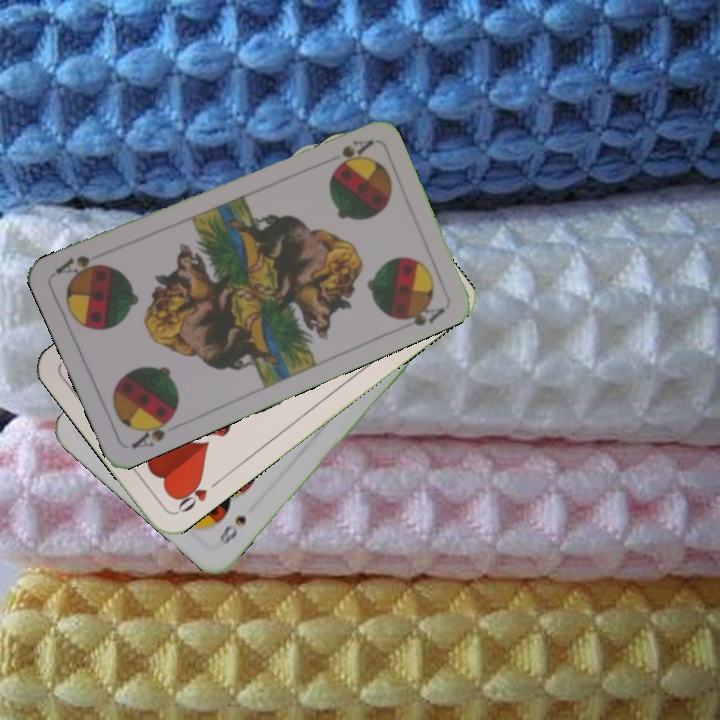HO: (171, 474, 223, 516)
S8: (215, 511, 250, 549)
SA: (127, 410, 178, 452), (337, 135, 376, 161)
